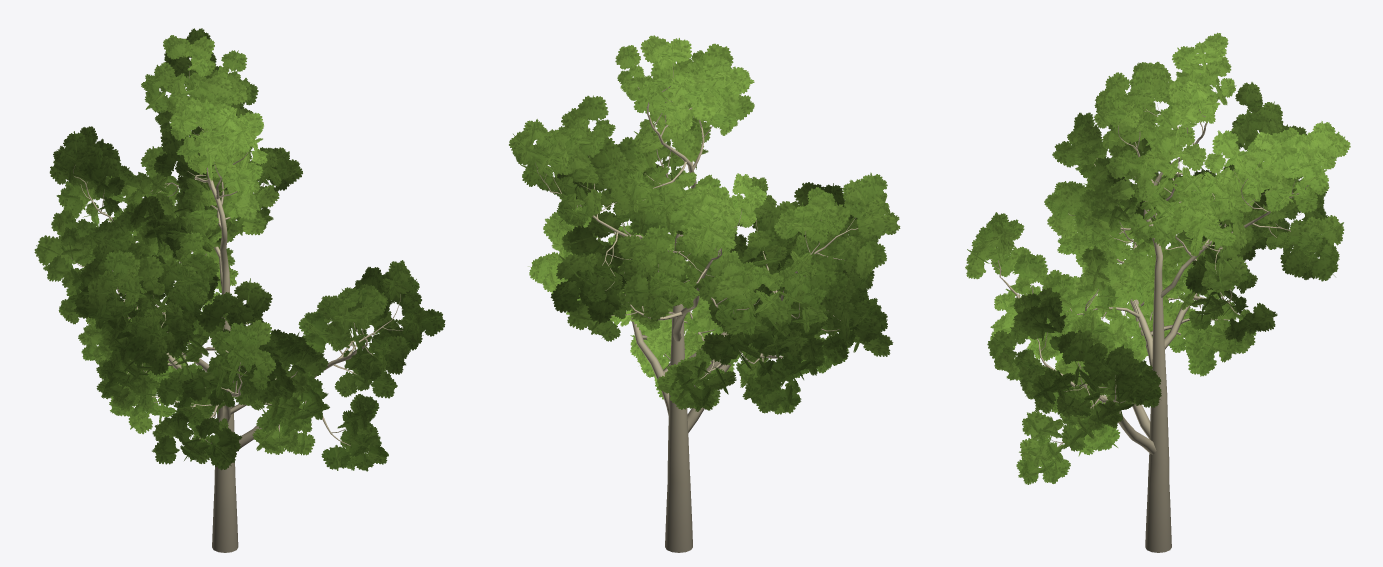
File: platano-alto.glb
3 renders of one model, left to right at view 1: azimuth 30°, elevation 25°; view 2: azimuth 150°, elevation 25°; view 3: azimuth 270°, elevation 25°, orthographic. The views are drawn at different scales.
Parts seen in each view (by area): view 1: platano; view 2: platano; view 3: platano.
Part boxes in pixels (left/top/right/bottom): platano: left=34, top=28, right=445, bottom=552; platano: left=509, top=35, right=900, bottom=552; platano: left=965, top=32, right=1350, bottom=552.
Bounding box in the file's own units: 9.7 × 13 × 9.45.
2 materials, 1 textured.
